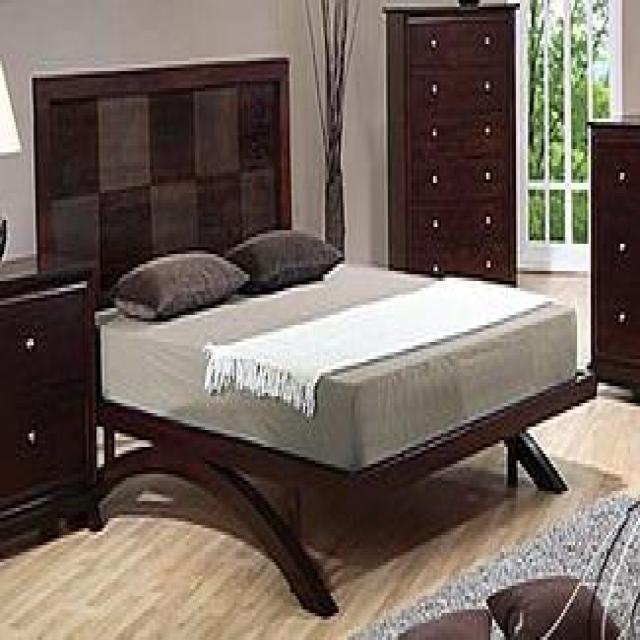bed: (29, 54, 596, 616)
